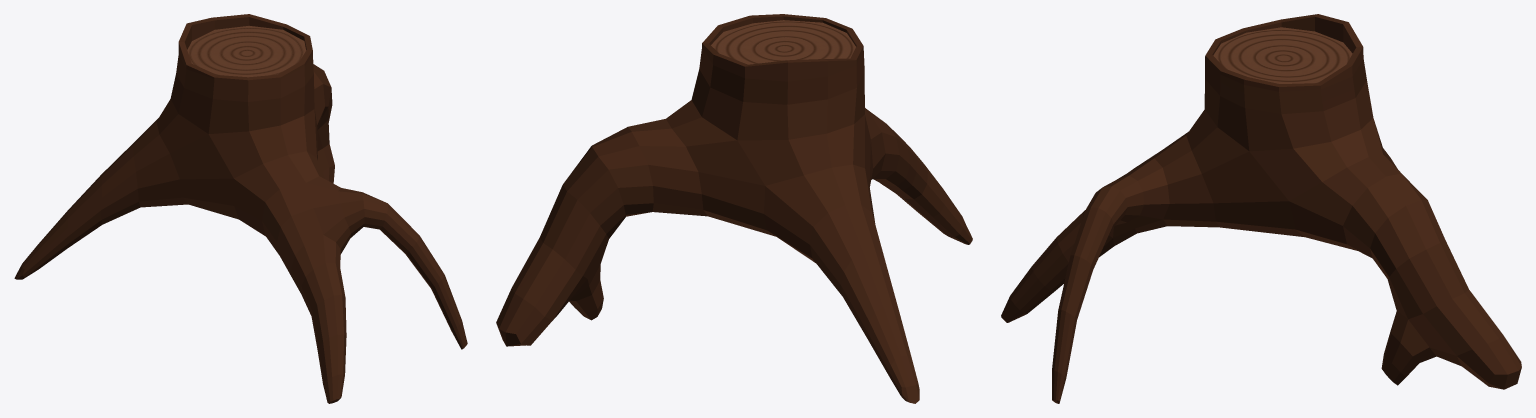
Rendered from Stump_2.FBX.
The picture shows the model from 3 angles, left to right: view 1: azimuth 30°, elevation 25°; view 2: azimuth 150°, elevation 25°; view 3: azimuth 270°, elevation 25°; orthographic projection. The views are drawn at different scales.
Visible parts, largest first — view 1: Stump_2; view 2: Stump_2; view 3: Stump_2.
Part boxes in pixels (<box>): Stump_2: <box>14,14,467,403</box>; Stump_2: <box>496,14,972,403</box>; Stump_2: <box>1001,14,1521,403</box>.
Bounding box in the file's own units: 373 × 289 × 451.
